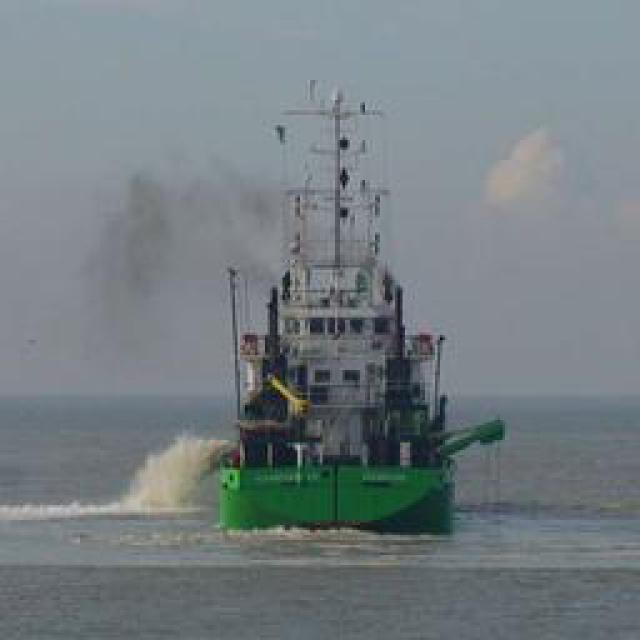Ship: (211, 62, 496, 535)
